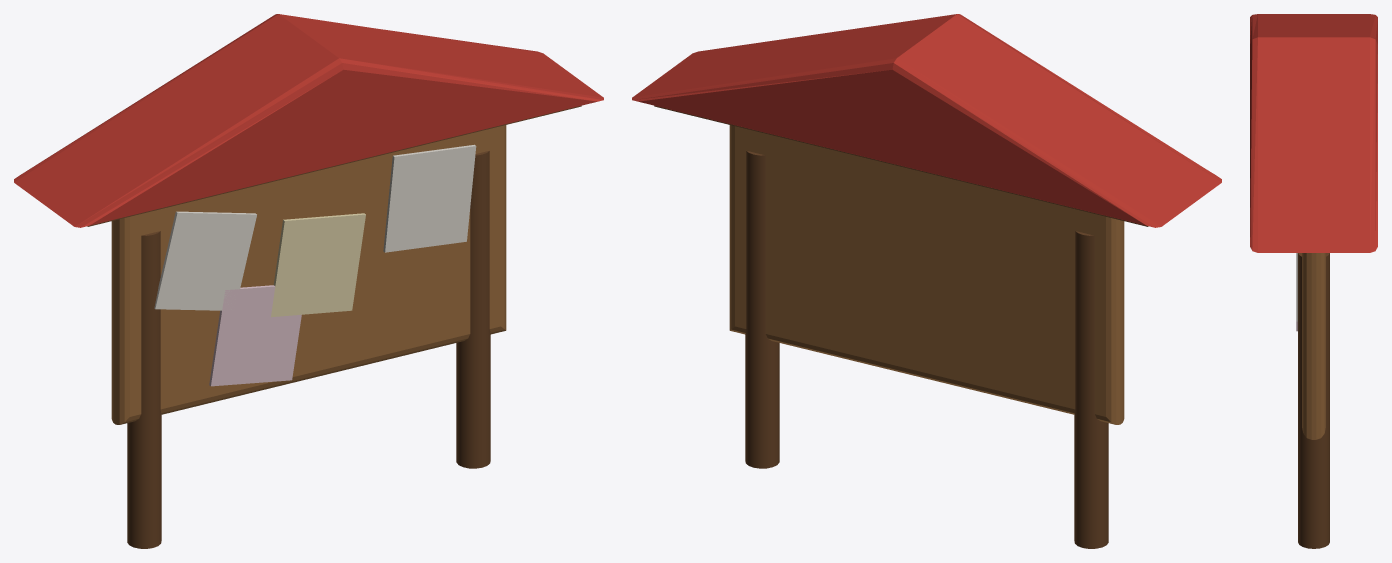
Rendered from ordersBoard.glb.
The picture shows the model from 3 angles, left to right: view 1: azimuth 30°, elevation 25°; view 2: azimuth 150°, elevation 25°; view 3: azimuth 270°, elevation 25°; orthographic projection. The views are drawn at different scales.
Visible parts, largest first — view 1: farm_ordersBoard; view 2: farm_ordersBoard; view 3: farm_ordersBoard.
Part boxes in pixels (x1=…): farm_ordersBoard: x1=14, y1=14, x2=603, y2=548; farm_ordersBoard: x1=632, y1=14, x2=1221, y2=548; farm_ordersBoard: x1=1250, y1=14, x2=1377, y2=548.
Size of the model in its own units: 3.54 by 2.97 by 0.8.
